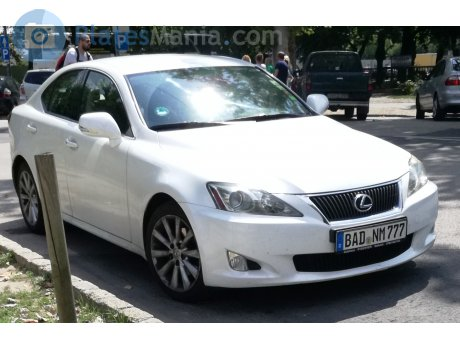License Plates: (346, 225, 406, 242)
